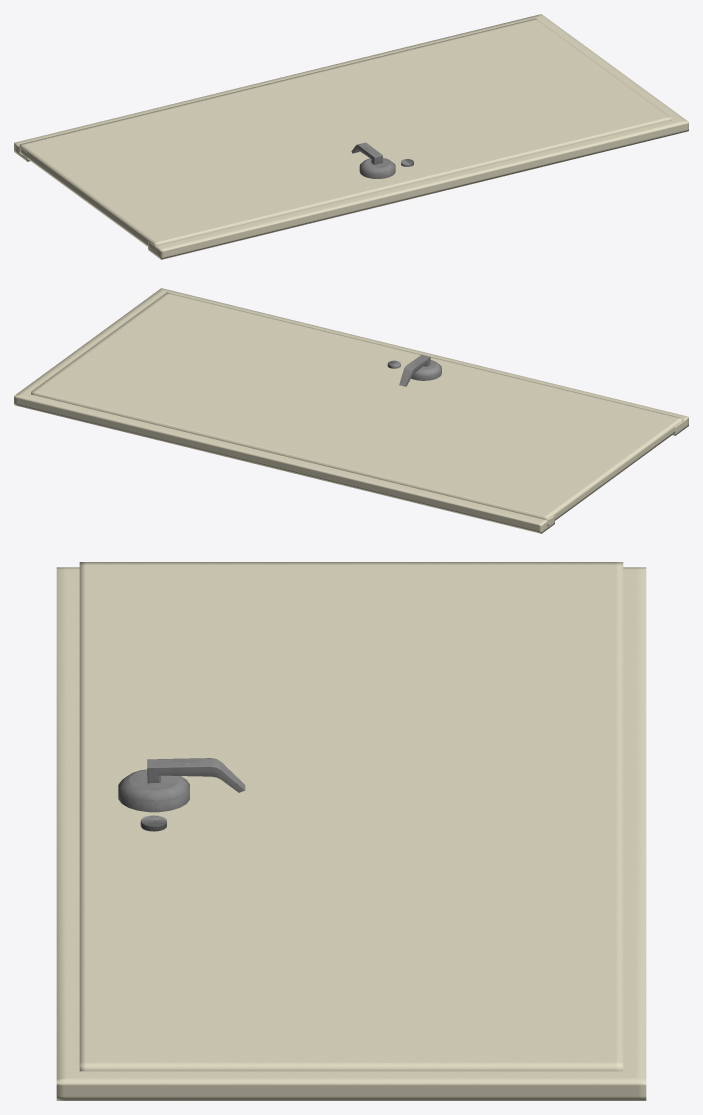
File: SM_098_Door.fbx
3 views of the same model, one above another, from view 1: azimuth 30°, elevation 25°; view 2: azimuth 150°, elevation 25°; view 3: azimuth 270°, elevation 25° (orthographic). The views are drawn at different scales.
Visible parts, largest first — view 1: SM_098_Door; view 2: SM_098_Door; view 3: SM_098_Door.
Part boxes in pixels (x1=…): SM_098_Door: x1=14, y1=14, x2=688, y2=259; SM_098_Door: x1=14, y1=288, x2=688, y2=533; SM_098_Door: x1=56, y1=562, x2=646, y2=1100.
Size of the model in its own units: 222 by 107 by 11.64.
Materials: 1 (1 with a texture image).
